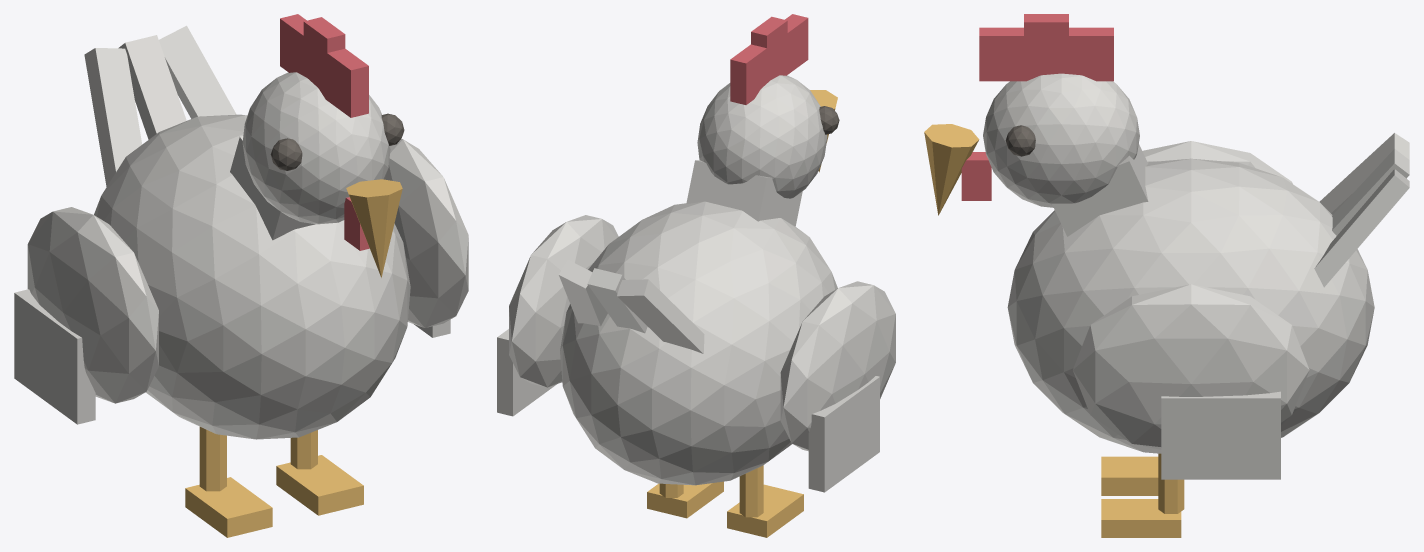
File: chicken.glb
3 renders of one model, left to right at view 1: azimuth 30°, elevation 25°; view 2: azimuth 150°, elevation 25°; view 3: azimuth 270°, elevation 25°, orthographic. The views are drawn at different scales.
Visible parts, largest first — view 1: Body, Head, WingR, WingL; view 2: Body, WingR, Head, WingL; view 3: Body, WingL, Head, WingR.
Part boxes in pixels (left/top/right/bottom): Body: left=84, top=25, right=410, bottom=537; Head: left=242, top=14, right=404, bottom=277; WingR: left=14, top=207, right=158, bottom=424; WingL: left=384, top=138, right=468, bottom=337; Body: left=558, top=160, right=837, bottom=537; WingR: left=780, top=281, right=895, bottom=492; Head: left=697, top=14, right=839, bottom=198; WingL: left=497, top=215, right=618, bottom=416; Body: left=1007, top=133, right=1409, bottom=537; WingL: left=1073, top=284, right=1309, bottom=479; Head: left=924, top=14, right=1139, bottom=215; WingR: left=1142, top=141, right=1292, bottom=183.
Size of the model in its own units: 0.41 by 0.54 by 0.4869.
